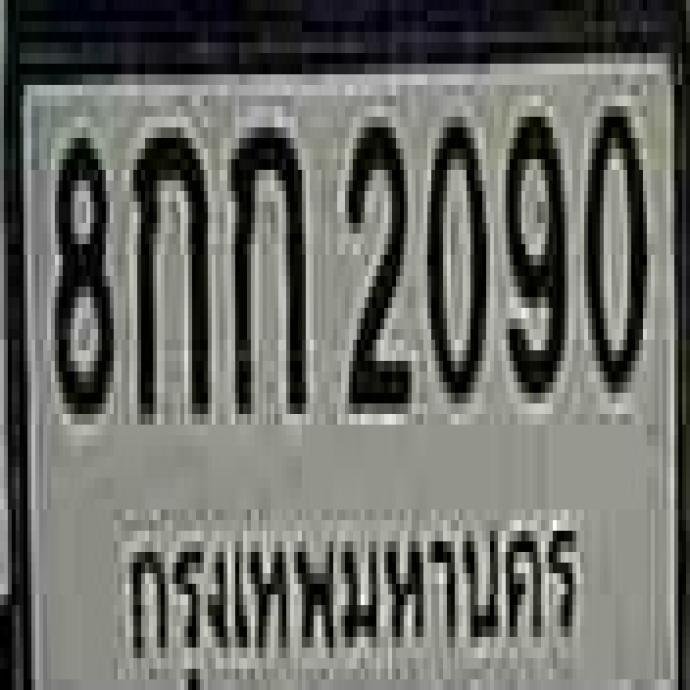0: (581, 97, 643, 383), (424, 108, 483, 394)
2: (343, 110, 406, 402)
8: (50, 127, 108, 405)
9: (501, 106, 563, 389)
A01: (129, 119, 204, 410), (226, 117, 301, 406)
BKK: (113, 497, 589, 688)
